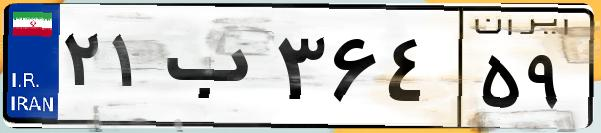1: (110, 28, 158, 98)
2: (57, 26, 110, 100)
3: (270, 28, 330, 110)
4: (385, 28, 445, 110)
5: (475, 38, 525, 113)
6: (330, 28, 385, 110)
9: (525, 38, 570, 115)
ب: (158, 20, 270, 120)
